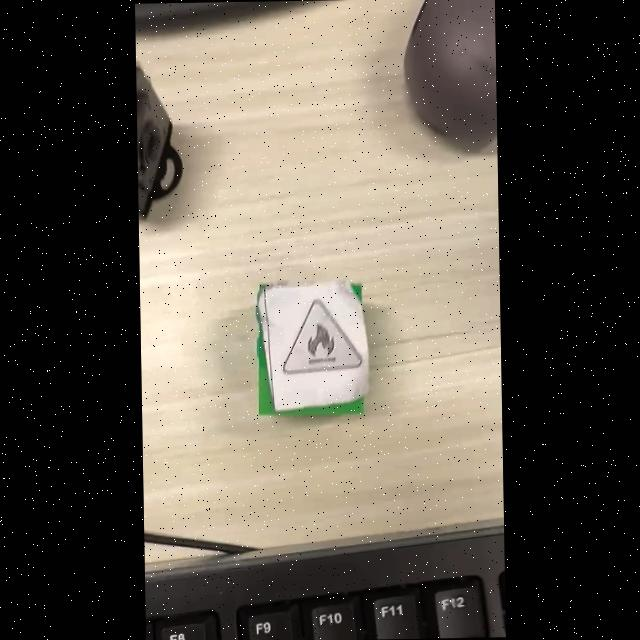Fire: (283, 299, 363, 374)
